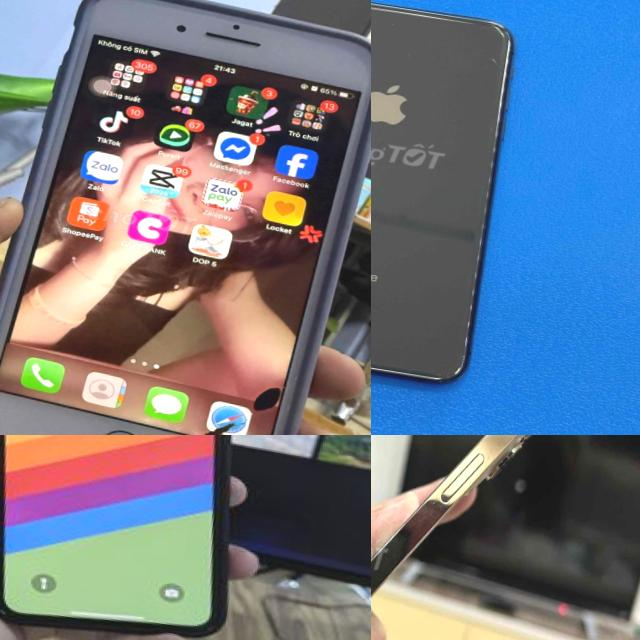physical_damage: (230, 404, 270, 429), (274, 366, 304, 393)
scratch: (480, 48, 520, 80), (432, 370, 454, 382), (385, 18, 403, 30)
screen_defect: (181, 410, 241, 435), (246, 381, 286, 415)
